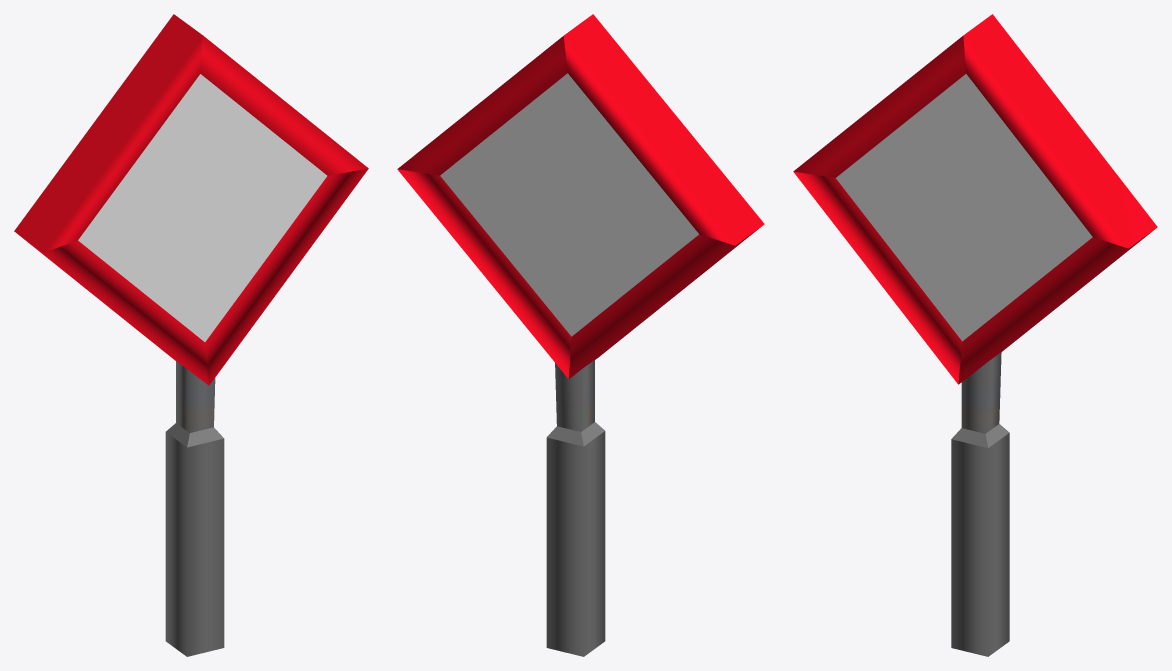
File: SM_Road_Sing.fbx
3 views of the same model, side by side, from view 1: azimuth 30°, elevation 25°; view 2: azimuth 150°, elevation 25°; view 3: azimuth 330°, elevation 25° (orthographic).
Parts seen in each view (by area): view 1: SM_Road_Sing; view 2: SM_Road_Sing; view 3: SM_Road_Sing.
Boxes of the visible parts, <box> form: SM_Road_Sing: <box>14,14,368,656</box>; SM_Road_Sing: <box>397,14,764,656</box>; SM_Road_Sing: <box>793,14,1157,656</box>.
Size of the model in its own units: 188 by 337 by 34.37.
